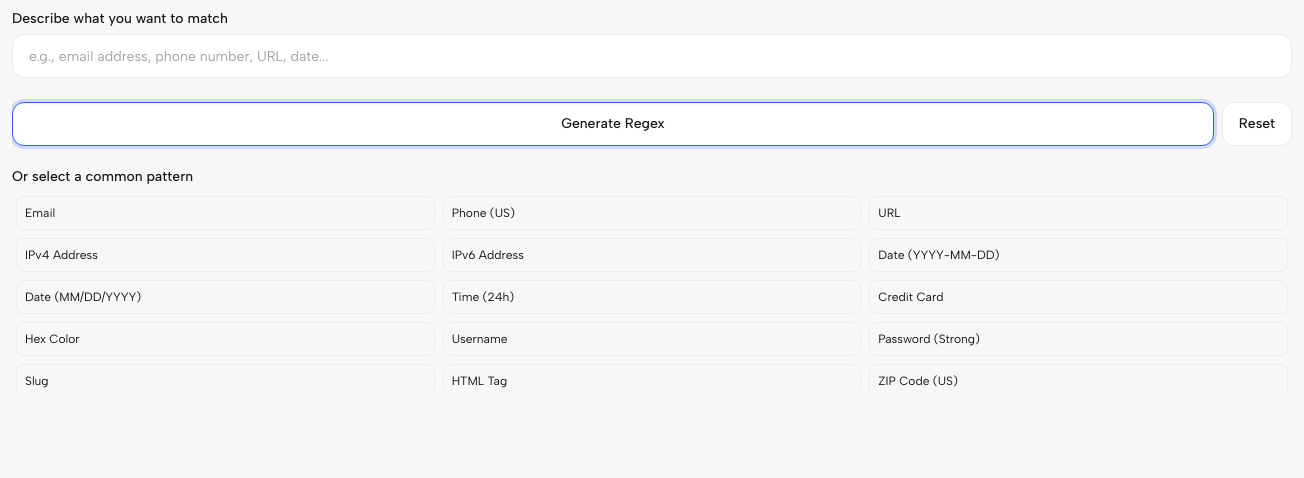
Test: RegexGeneratorTool › shows error when generating without description
Click the button "Generate Regex": click(613, 124) [12,102,1214,146]
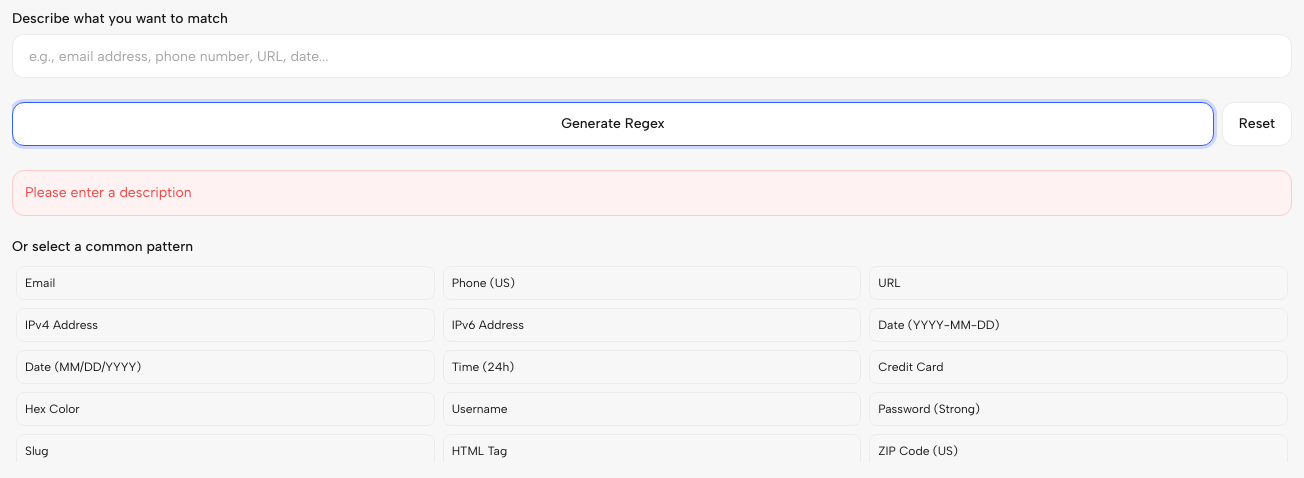
Expected: the text "Please enter a description" is shown, [12,170,1292,216]
